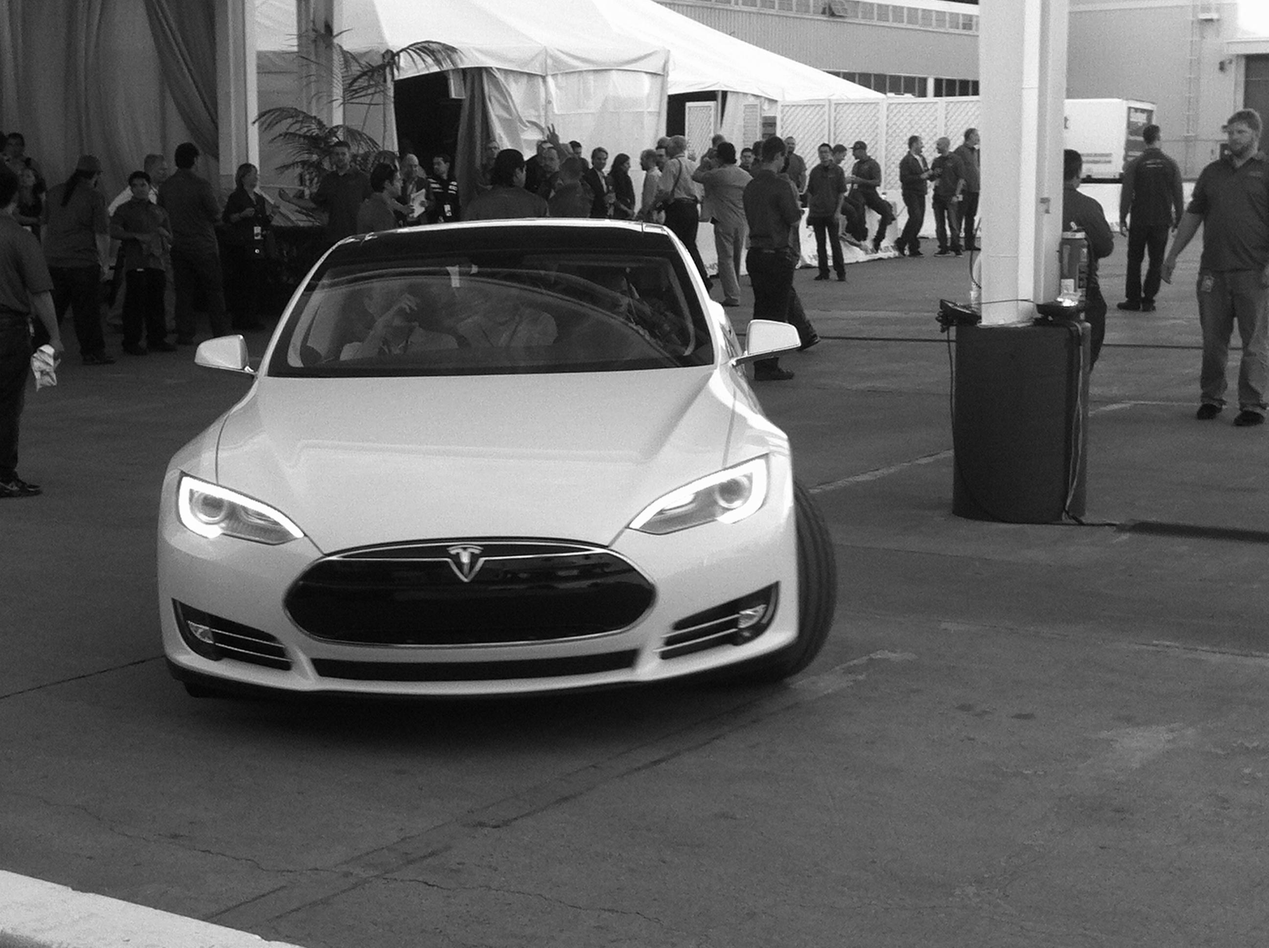car: (155, 212, 827, 714)
